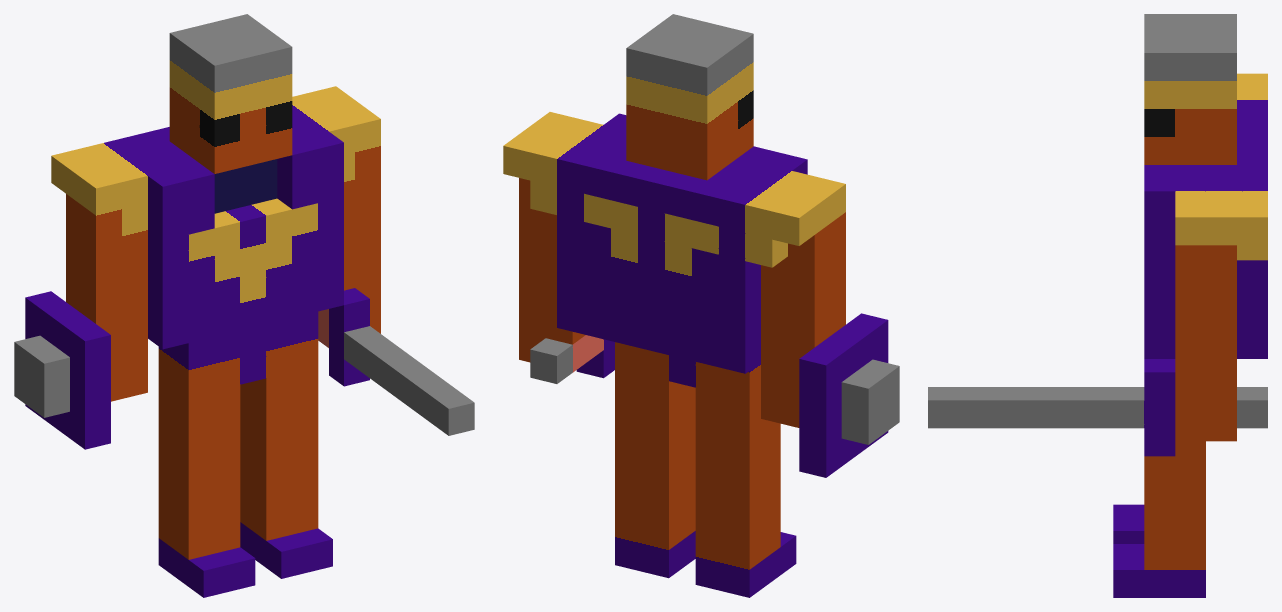
Rendered from Morgan2.fbx.
The picture shows the model from 3 angles, left to right: view 1: azimuth 30°, elevation 25°; view 2: azimuth 150°, elevation 25°; view 3: azimuth 270°, elevation 25°; orthographic projection. The views are drawn at different scales.
Parts seen in each view (by area): view 1: Matrix; view 2: Matrix; view 3: Matrix.
Part boxes in pixels (x1,y1,x2,y2): Matrix: (14, 14, 474, 597); Matrix: (503, 14, 899, 597); Matrix: (928, 14, 1267, 597).
Bounding box in the file's own units: 13 × 19 × 11.
Materials: 1 (1 with a texture image).
